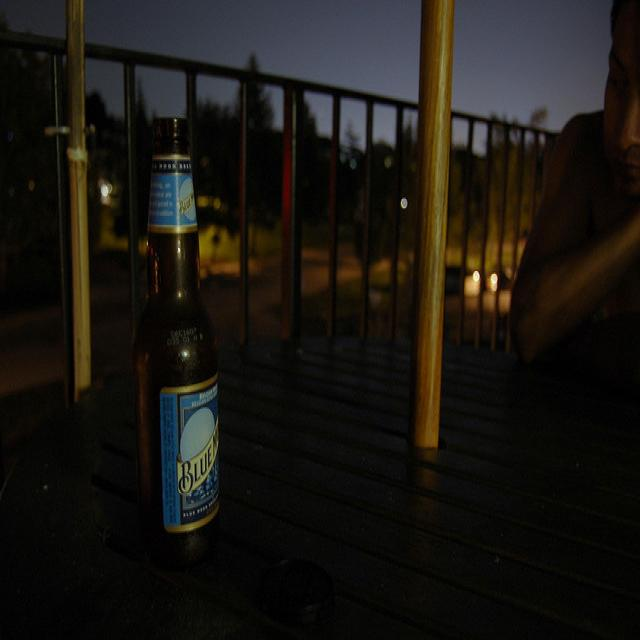People: (507, 1, 639, 414), (133, 129, 209, 556)
Table: (0, 337, 640, 640)
